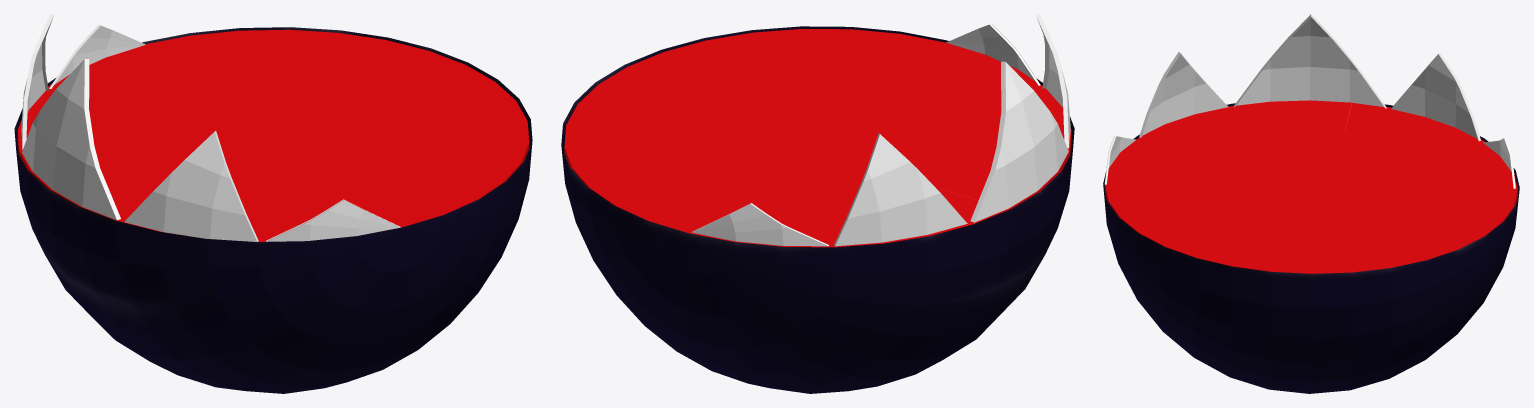
File: chain chomp_cabeza_inf.obj
The picture shows the model from 3 angles, left to right: view 1: azimuth 30°, elevation 25°; view 2: azimuth 150°, elevation 25°; view 3: azimuth 270°, elevation 25°; orthographic projection. The views are drawn at different scales.
Parts seen in each view (by area): view 1: Esfera; view 2: Esfera; view 3: Esfera.
Part boxes in pixels (x1,y1,x2,y2): Esfera: (14,14,532,393); Esfera: (561,14,1074,393); Esfera: (1103,14,1519,393).
Bounding box in the file's own units: 2 × 1.52 × 2.
1 material, 1 textured.
